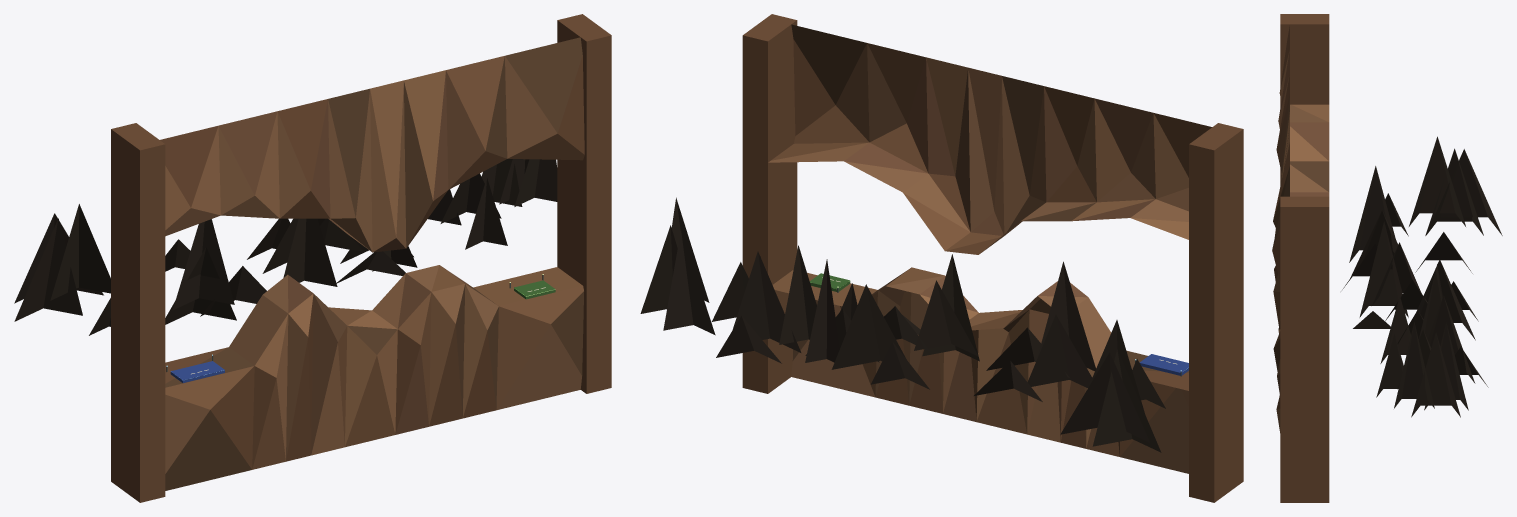
Rendered from 03-cinder.glb.
The picture shows the model from 3 angles, left to right: view 1: azimuth 30°, elevation 25°; view 2: azimuth 150°, elevation 25°; view 3: azimuth 270°, elevation 25°; orthographic projection. The views are drawn at different scales.
Visible parts, largest first — view 1: terrain_floor, terrain_roof, terrain_wall_-1, terrain_wall_1, background_spire_22, background_spire_09, background_spire_24, background_spire_02, background_spire_03, background_spire_20, background_spire_21, background_spire_01 (+8 smaller); view 2: terrain_roof, terrain_floor, terrain_wall_-1, terrain_wall_1, background_spire_16, background_spire_11, background_spire_07, background_spire_00, background_spire_21, background_spire_09, background_spire_05, background_spire_06 (+13 smaller); view 3: terrain_wall_1, terrain_roof, terrain_wall_-1, background_spire_22, background_spire_11, background_spire_02, background_spire_12, background_spire_24, background_spire_03, background_spire_16, background_spire_00, background_spire_07 (+14 smaller).
Boxes of the visible parts, x1,y1,x2,y2 form: terrain_floor: (165, 265, 583, 490); terrain_roof: (160, 37, 584, 252); terrain_wall_-1: (111, 123, 165, 502); terrain_wall_1: (557, 14, 611, 393); background_spire_22: (50, 204, 110, 300); background_spire_09: (14, 218, 82, 321); background_spire_24: (173, 219, 234, 309); background_spire_02: (283, 218, 337, 286); background_spire_03: (514, 159, 557, 206); background_spire_20: (465, 178, 507, 249); background_spire_21: (165, 247, 236, 324); background_spire_01: (440, 173, 501, 223); terrain_roof: (768, 24, 1211, 254); terrain_floor: (772, 267, 1188, 473); terrain_wall_-1: (1189, 123, 1243, 502); terrain_wall_1: (742, 14, 797, 393); background_spire_16: (831, 284, 906, 369); background_spire_11: (1060, 352, 1149, 442); background_spire_07: (663, 230, 715, 335); background_spire_00: (732, 251, 801, 352); background_spire_21: (1027, 315, 1092, 388); background_spire_09: (1092, 349, 1161, 452); background_spire_05: (779, 245, 816, 344); background_spire_06: (914, 280, 978, 356); terrain_wall_1: (1280, 196, 1329, 502); terrain_roof: (1272, 25, 1329, 281); terrain_wall_-1: (1280, 14, 1329, 184); background_spire_22: (1409, 136, 1465, 226); background_spire_11: (1426, 149, 1502, 235); background_spire_02: (1359, 221, 1408, 317); background_spire_12: (1411, 332, 1460, 417); background_spire_24: (1349, 166, 1397, 262); background_spire_03: (1394, 322, 1434, 408); background_spire_16: (1416, 259, 1475, 340); background_spire_00: (1427, 295, 1475, 383); background_spire_07: (1424, 323, 1468, 410).
Size of what is drawn, in the model's own units: 61.89 by 40 by 28.27.
